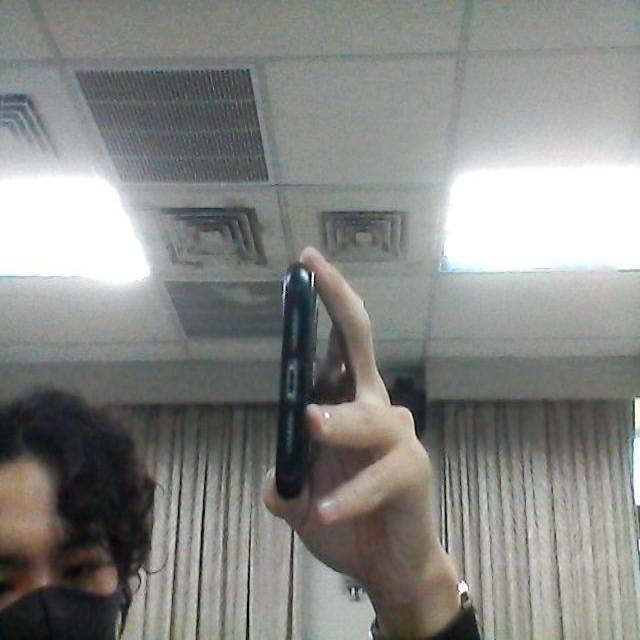Phone: (272, 260, 321, 508)
